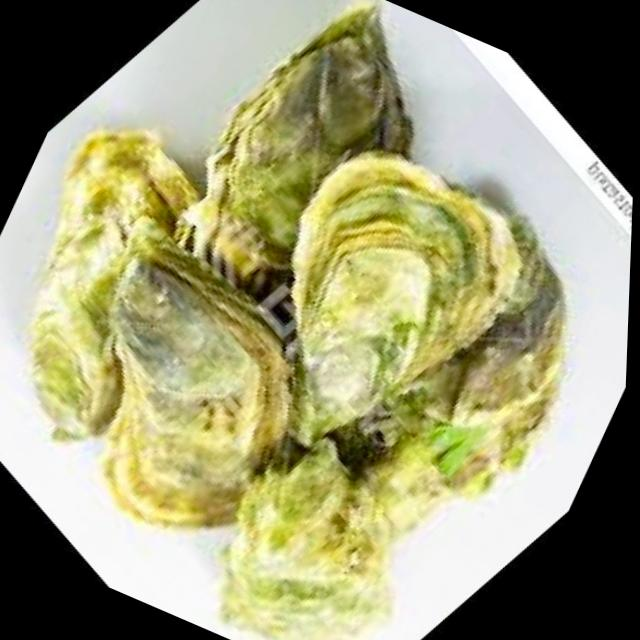Oyster-Closed: (174, 4, 412, 300), (105, 225, 291, 525)
Oyster-Indeterminate: (292, 152, 520, 443), (29, 130, 196, 439), (222, 438, 395, 640)
